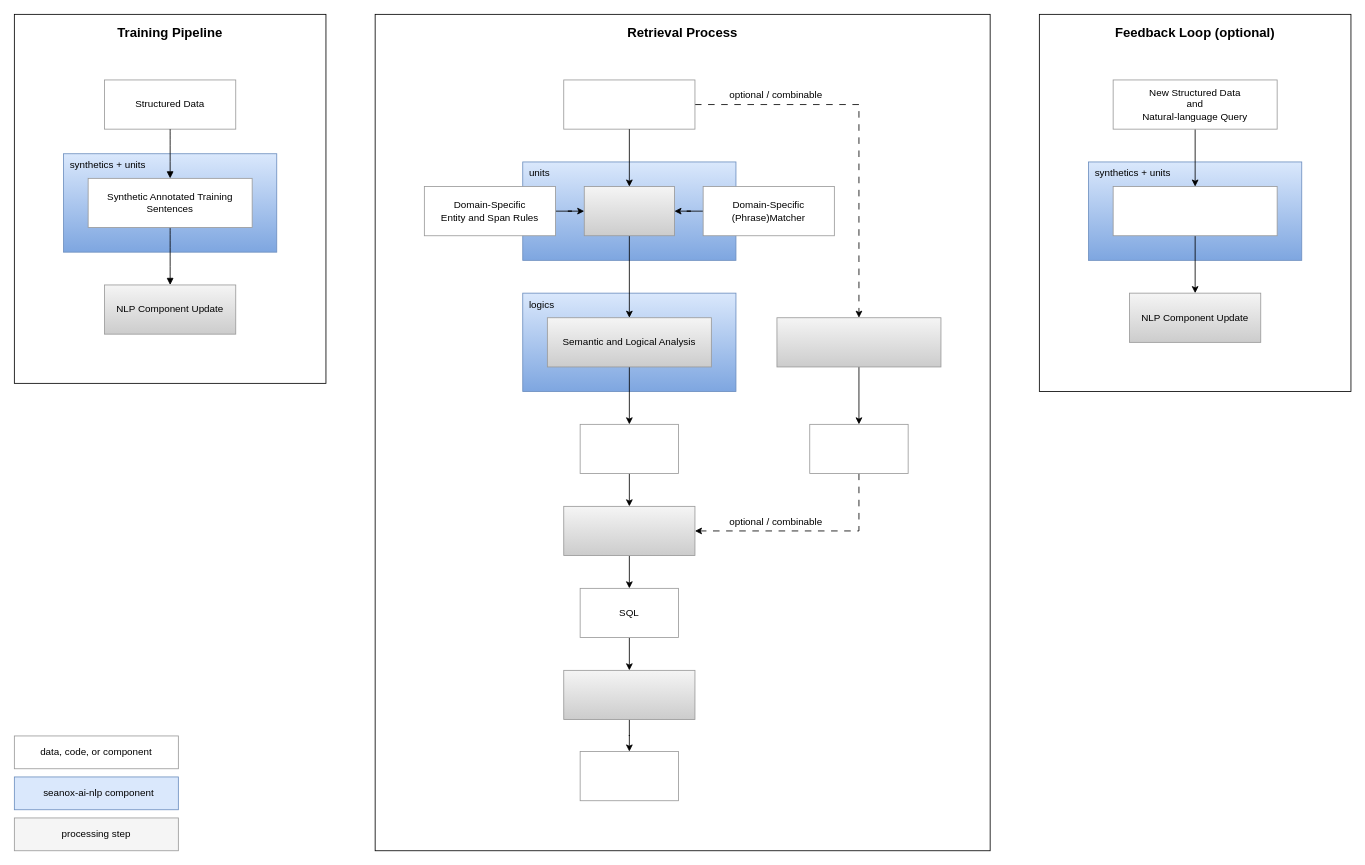
This 1365x865 diagram has some shape labels left out. Here are the shapes that lost their labels. From the top down, the centre of each, then its label:
point (629, 104): Natural-language Query
point (628, 211): Entity Extraction
point (1194, 211): Update of Synthetic Annotated Training Sentences
point (858, 342): Embedding Generation / Vectorization
point (629, 449): Logical Structure
point (858, 449): Embeddings
point (629, 531): Domain-Specific SQL Composition
point (629, 695): Database Execution
point (629, 776): Retrieval
